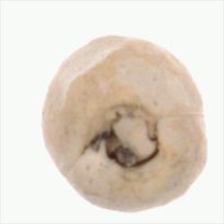L3: (83, 99, 165, 166)
L4: (41, 34, 207, 213)
